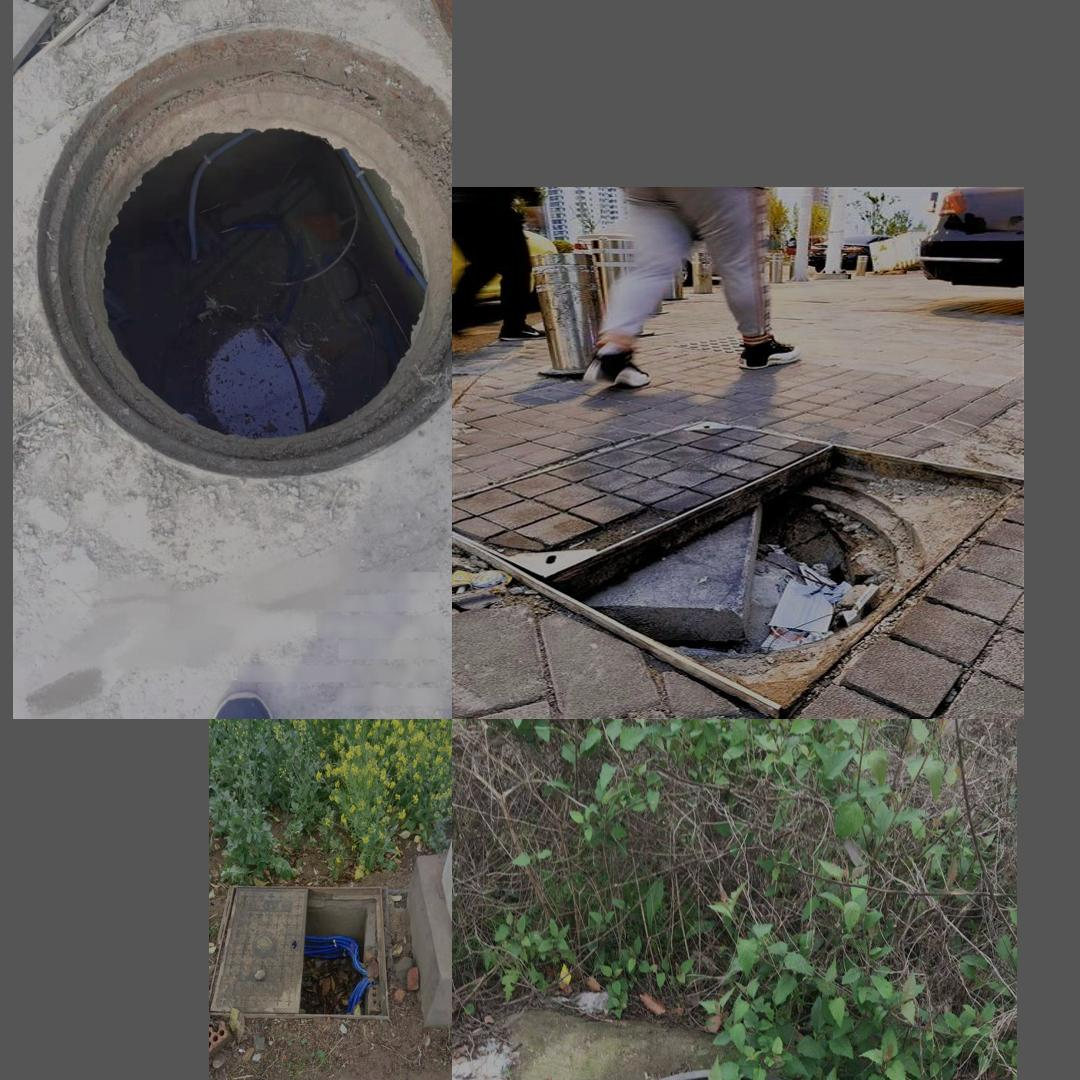lose: (41, 0, 443, 544), (464, 418, 1012, 708), (209, 883, 391, 1021), (504, 1047, 944, 1080)
